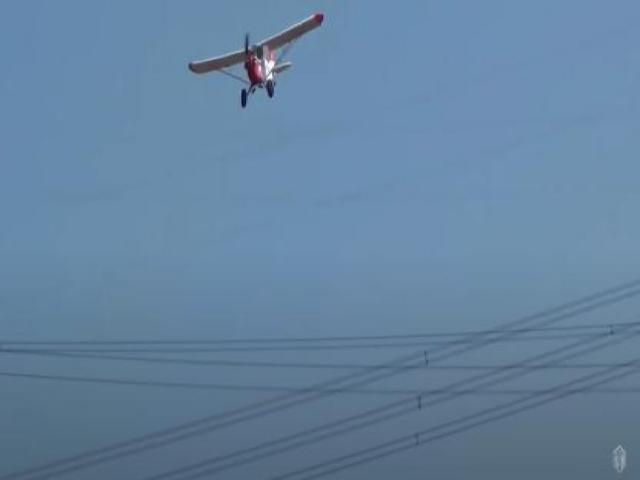uav: (182, 5, 328, 109)
